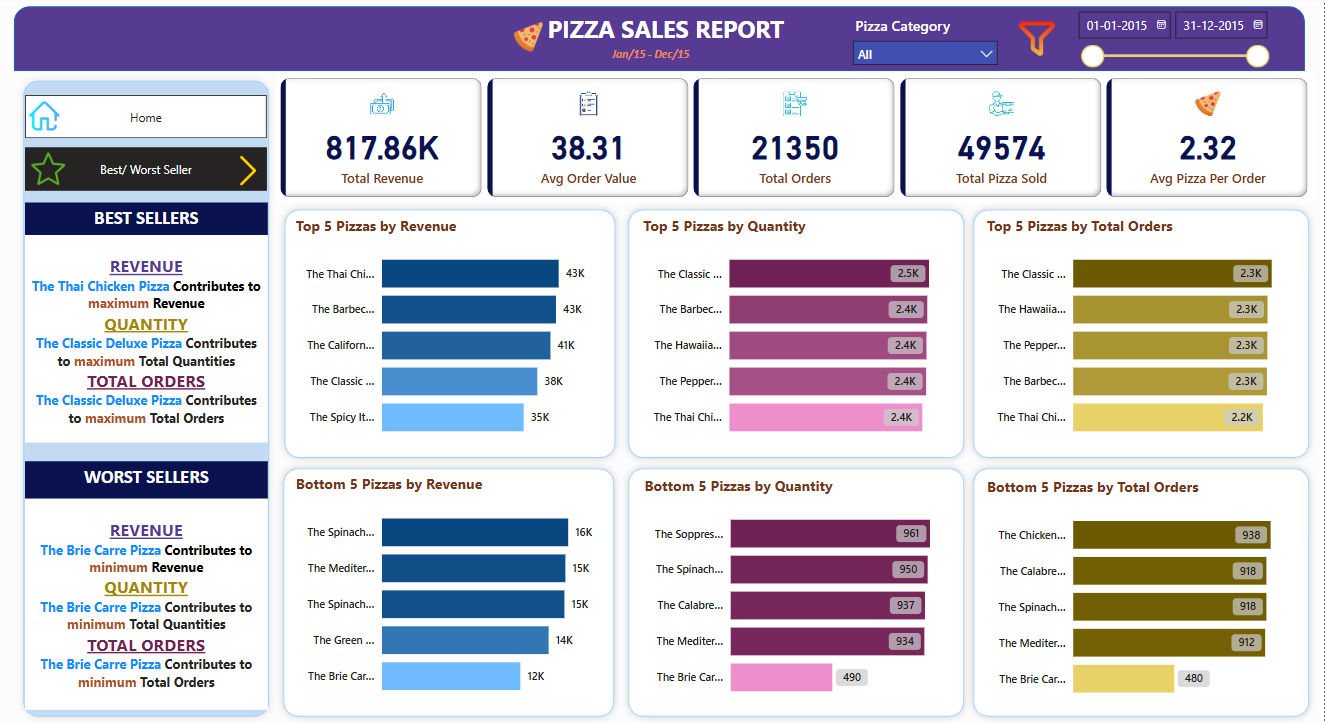

This screenshot's page, from the dashboard's own definition file:
{"tool":"powerbi","page":{"name":"Best/ Worst Seller","canvas":[1500,820],"ordinal":1},"visuals":[{"type":"cardVisual","fields":{"Data":["pizza_sales.Total Revenue","pizza_sales.Avg Order Value","pizza_sales.Total Orders","pizza_sales.Total Pizza Sold","pizza_sales.Avg Pizza Per Order"]},"box":[313.1,83.6,1178.7,145.9],"z":0},{"type":"shape","box":[15.6,7.1,1463.5,73.7],"z":1000},{"type":"textbox","box":[688.5,46.8,117.6,36.8],"z":2000},{"type":"shape","box":[18.4,83.6,294.7,736.7],"z":3000},{"type":"textbox","box":[535.5,9.9,437.8,48.2],"z":4000},{"type":"image","box":[569.5,19.8,58.1,43.9],"z":5000},{"type":"shape","box":[314.5,229.5,391,297.5],"z":6000},{"type":"textbox","box":[28.3,229.5,274.8,36.8],"z":7000},{"type":"textbox","box":[28.3,266.3,274.8,235.2],"z":8000},{"type":"textbox","box":[28.3,522.8,274.8,42.5],"z":9000},{"type":"textbox","box":[28.3,565.3,274.8,239.4],"z":10000},{"type":"slicer","fields":{"Values":["pizza_sales.pizza_category"]},"box":[956.3,12.8,184.2,68],"z":11000},{"type":"slicer","fields":{"Values":["pizza_sales.order_date"]},"box":[1209.9,2.8,236.6,83.6],"z":12000},{"type":"shape","box":[704.1,229.5,396.7,297.5],"z":13000},{"type":"shape","box":[1095.1,229.5,396.7,297.5],"z":14000},{"type":"shape","box":[313.1,522.8,391,297.5],"z":15000},{"type":"shape","box":[704.1,522.8,396.7,297.5],"z":16000},{"type":"shape","box":[1095.1,522.8,396.7,297.5],"z":17000},{"type":"barChart","title":"Top 5 Pizzas by Revenue","fields":{"Y":["pizza_sales.Total Revenue"],"Category":["pizza_sales.pizza_name"]},"box":[330.1,243.7,358.4,267.8],"z":18000},{"type":"barChart","title":"Bottom 5 Pizzas by Revenue","fields":{"Y":["pizza_sales.Total Revenue"],"Category":["pizza_sales.pizza_name"]},"box":[330.1,536.9,358.4,267.8],"z":19000},{"type":"barChart","title":"Top 5 Pizzas by Quantity","fields":{"Category":["pizza_sales.pizza_name"],"Y":["pizza_sales.Total Pizza Sold"]},"box":[724,243.7,358.4,267.8],"z":20000},{"type":"barChart","title":"Top 5 Pizzas by Total Orders","fields":{"Category":["pizza_sales.pizza_name"],"Y":["pizza_sales.Total Orders"]},"box":[1113.6,243.7,358.4,267.8],"z":21000},{"type":"barChart","title":"Bottom 5 Pizzas by Quantity","fields":{"Category":["pizza_sales.pizza_name"],"Y":["pizza_sales.Total Pizza Sold"]},"box":[725.4,538.4,358.4,267.8],"z":22000},{"type":"barChart","title":"Bottom 5 Pizzas by Total Orders","fields":{"Category":["pizza_sales.pizza_name"],"Y":["pizza_sales.Total Orders"]},"box":[1113.6,539.8,358.4,267.8],"z":23000},{"type":"pageNavigator","box":[28.3,107.7,274.8,49.6],"z":24000},{"type":"pageNavigator","box":[28.3,167.2,274.8,49.6],"z":25000},{"type":"image","box":[259.3,171.4,43.9,43.9],"z":26000},{"type":"image","box":[28.3,106.3,43.9,51],"z":27000},{"type":"image","box":[28.3,167.2,52.4,48.2],"z":28000},{"type":"image","box":[1140.5,9.9,69.4,66.6],"z":28001}]}

Visuals, with their boxes in screenshot pixels (x1, y1, x2, y2), scaled from the page's 1500x820 canvas onto the 1325x723 screenshot:
cardVisual - pizza_sales.Total Revenue x pizza_sales.Avg Order Value: box=[277, 74, 1318, 202]
shape: box=[14, 6, 1307, 71]
textbox: box=[608, 41, 712, 74]
shape: box=[16, 74, 277, 722]
textbox: box=[473, 9, 860, 51]
image: box=[503, 17, 554, 56]
shape: box=[278, 202, 623, 465]
textbox: box=[25, 202, 268, 235]
textbox: box=[25, 235, 268, 442]
textbox: box=[25, 461, 268, 498]
textbox: box=[25, 498, 268, 710]
slicer - pizza_sales.pizza_category: box=[845, 11, 1007, 71]
slicer - pizza_sales.order_date: box=[1069, 2, 1278, 76]
shape: box=[622, 202, 972, 465]
shape: box=[967, 202, 1318, 465]
shape: box=[277, 461, 622, 722]
shape: box=[622, 461, 972, 722]
shape: box=[967, 461, 1318, 722]
"Top 5 Pizzas by Revenue" barChart: box=[292, 215, 608, 451]
"Bottom 5 Pizzas by Revenue" barChart: box=[292, 473, 608, 710]
"Top 5 Pizzas by Quantity" barChart: box=[640, 215, 956, 451]
"Top 5 Pizzas by Total Orders" barChart: box=[984, 215, 1300, 451]
"Bottom 5 Pizzas by Quantity" barChart: box=[641, 475, 957, 711]
"Bottom 5 Pizzas by Total Orders" barChart: box=[984, 476, 1300, 712]
pageNavigator: box=[25, 95, 268, 139]
pageNavigator: box=[25, 147, 268, 191]
image: box=[229, 151, 268, 190]
image: box=[25, 94, 64, 139]
image: box=[25, 147, 71, 190]
image: box=[1007, 9, 1069, 67]
